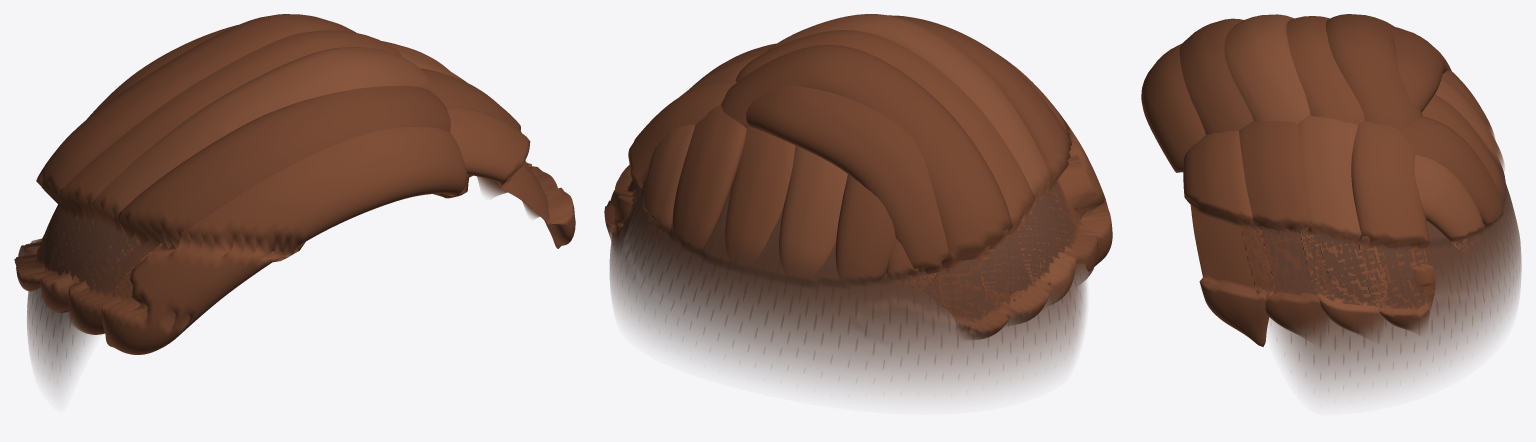
Rendered from Masculine-taper-headband258-hair.glb.
The picture shows the model from 3 angles, left to right: view 1: azimuth 30°, elevation 25°; view 2: azimuth 150°, elevation 25°; view 3: azimuth 270°, elevation 25°; orthographic projection. The views are drawn at different scales.
Visible parts, largest first — view 1: 226 hair / Hair258 / sculpted side sweep 1, 226 hair / Hair258 / sculpted side sweep 0, 226 hair / Hair258 / sculpted side sweep 2, 226 hair / Hair258 / smooth side fade; view 2: 226 hair / Hair258 / smooth side fade, 226 hair / Hair258 / sculpted side sweep 0, 226 hair / Hair258 / sculpted side sweep 1, 226 hair / Hair258 / sculpted side sweep 2, 226 hair / Hair258 / directional fade marks; view 3: 226 hair / Hair258 / sculpted side sweep 1, 226 hair / Hair258 / sculpted side sweep 0, 226 hair / Hair258 / smooth side fade, 226 hair / Hair258 / sculpted side sweep 2, 226 hair / Hair258 / directional fade marks.
Boxes of the visible parts, x1=… form: 226 hair / Hair258 / sculpted side sweep 1: x1=16, y1=30, x2=575, y2=354; 226 hair / Hair258 / sculpted side sweep 0: x1=14, y1=14, x2=557, y2=334; 226 hair / Hair258 / sculpted side sweep 2: x1=40, y1=47, x2=531, y2=312; 226 hair / Hair258 / smooth side fade: x1=27, y1=204, x2=151, y2=390; 226 hair / Hair258 / smooth side fade: x1=610, y1=179, x2=1086, y2=395; 226 hair / Hair258 / sculpted side sweep 0: x1=672, y1=15, x2=1097, y2=339; 226 hair / Hair258 / sculpted side sweep 1: x1=604, y1=30, x2=1112, y2=325; 226 hair / Hair258 / sculpted side sweep 2: x1=615, y1=14, x2=1075, y2=304; 226 hair / Hair258 / directional fade marks: x1=618, y1=179, x2=1080, y2=368; 226 hair / Hair258 / sculpted side sweep 1: x1=1141, y1=16, x2=1504, y2=346; 226 hair / Hair258 / sculpted side sweep 0: x1=1179, y1=14, x2=1503, y2=337; 226 hair / Hair258 / smooth side fade: x1=1247, y1=150, x2=1521, y2=396; 226 hair / Hair258 / sculpted side sweep 2: x1=1224, y1=14, x2=1504, y2=334; 226 hair / Hair258 / directional fade marks: x1=1252, y1=149, x2=1511, y2=378.
Size of the model in its own units: 0.9751 by 0.6474 by 0.7505.
